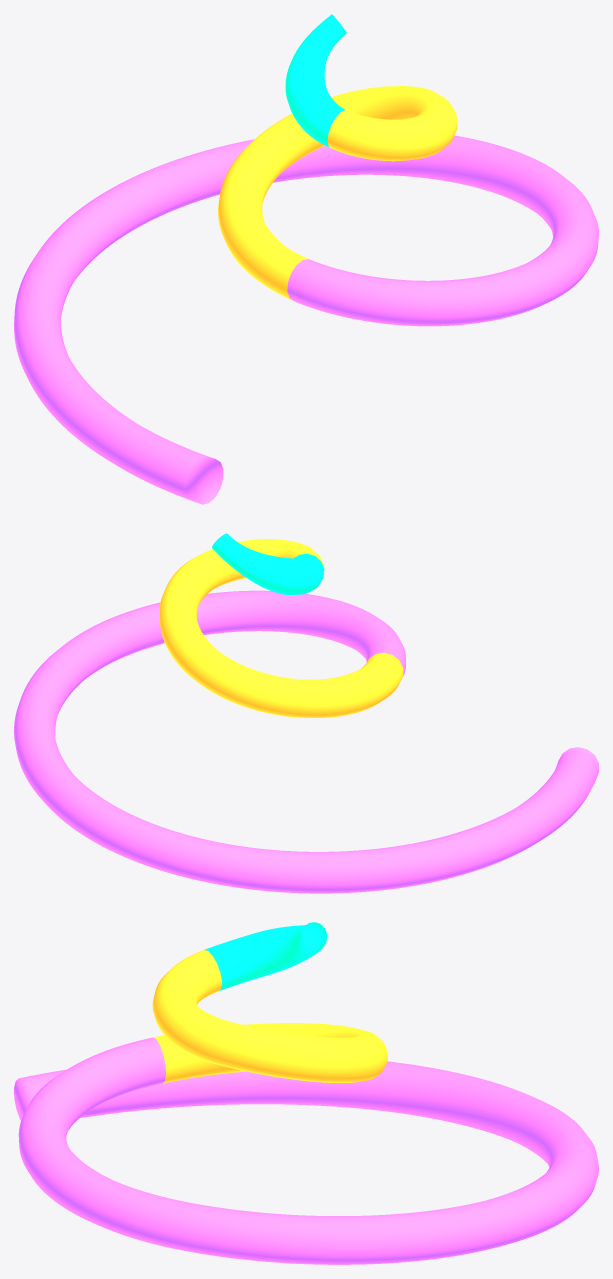
The model's file is aetiocetus_noodle.glb.
The picture shows the model from 3 angles, top to bottom: view 1: azimuth 30°, elevation 25°; view 2: azimuth 150°, elevation 25°; view 3: azimuth 270°, elevation 25°; orthographic projection. The views are drawn at different scales.
Parts seen in each view (by area): view 1: Aetiocetus | TURN COUNT NOODLE | T00_100, Aetiocetus | TURN COUNT NOODLE | T100_200, Aetiocetus | TURN COUNT NOODLE | T200_PLUS; view 2: Aetiocetus | TURN COUNT NOODLE | T00_100, Aetiocetus | TURN COUNT NOODLE | T100_200, Aetiocetus | TURN COUNT NOODLE | T200_PLUS; view 3: Aetiocetus | TURN COUNT NOODLE | T00_100, Aetiocetus | TURN COUNT NOODLE | T100_200, Aetiocetus | TURN COUNT NOODLE | T200_PLUS.
Part boxes in pixels (x1=…): Aetiocetus | TURN COUNT NOODLE | T00_100: x1=14, y1=135, x2=598, y2=504; Aetiocetus | TURN COUNT NOODLE | T100_200: x1=218, y1=86, x2=457, y2=300; Aetiocetus | TURN COUNT NOODLE | T200_PLUS: x1=285, y1=14, x2=346, y2=146; Aetiocetus | TURN COUNT NOODLE | T00_100: x1=14, y1=590, x2=598, y2=893; Aetiocetus | TURN COUNT NOODLE | T100_200: x1=159, y1=539, x2=403, y2=717; Aetiocetus | TURN COUNT NOODLE | T200_PLUS: x1=212, y1=533, x2=324, y2=594; Aetiocetus | TURN COUNT NOODLE | T00_100: x1=14, y1=1037, x2=598, y2=1264; Aetiocetus | TURN COUNT NOODLE | T100_200: x1=152, y1=950, x2=387, y2=1083; Aetiocetus | TURN COUNT NOODLE | T200_PLUS: x1=204, y1=922, x2=327, y2=990.
Bounding box in the file's own units: 9.52 × 5.58 × 8.75.
